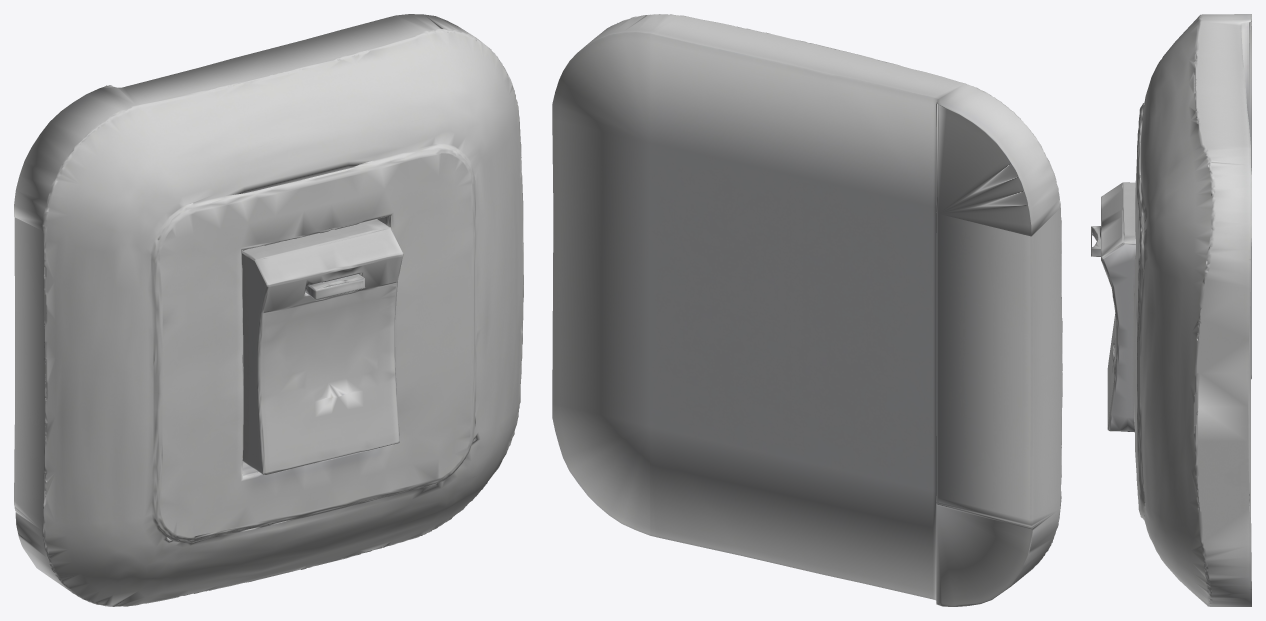
Rendered from light switch 3d model.glb.
3 renders of one model, left to right at view 1: azimuth 30°, elevation 25°; view 2: azimuth 150°, elevation 25°; view 3: azimuth 270°, elevation 25°, orthographic. The views are drawn at different scales.
Visible parts, largest first — view 1: tripo_node_58b84101-89a8-4166-bd26-890b90016320; view 2: tripo_node_58b84101-89a8-4166-bd26-890b90016320; view 3: tripo_node_58b84101-89a8-4166-bd26-890b90016320.
Boxes of the visible parts, box(x1,y1,x2,y2) form: tripo_node_58b84101-89a8-4166-bd26-890b90016320: box(14, 14, 523, 606); tripo_node_58b84101-89a8-4166-bd26-890b90016320: box(552, 14, 1062, 606); tripo_node_58b84101-89a8-4166-bd26-890b90016320: box(1091, 14, 1251, 606).
Bounding box in the file's own units: 0.998 × 0.998 × 0.3223.
Materials: 1 (1 with a texture image).
